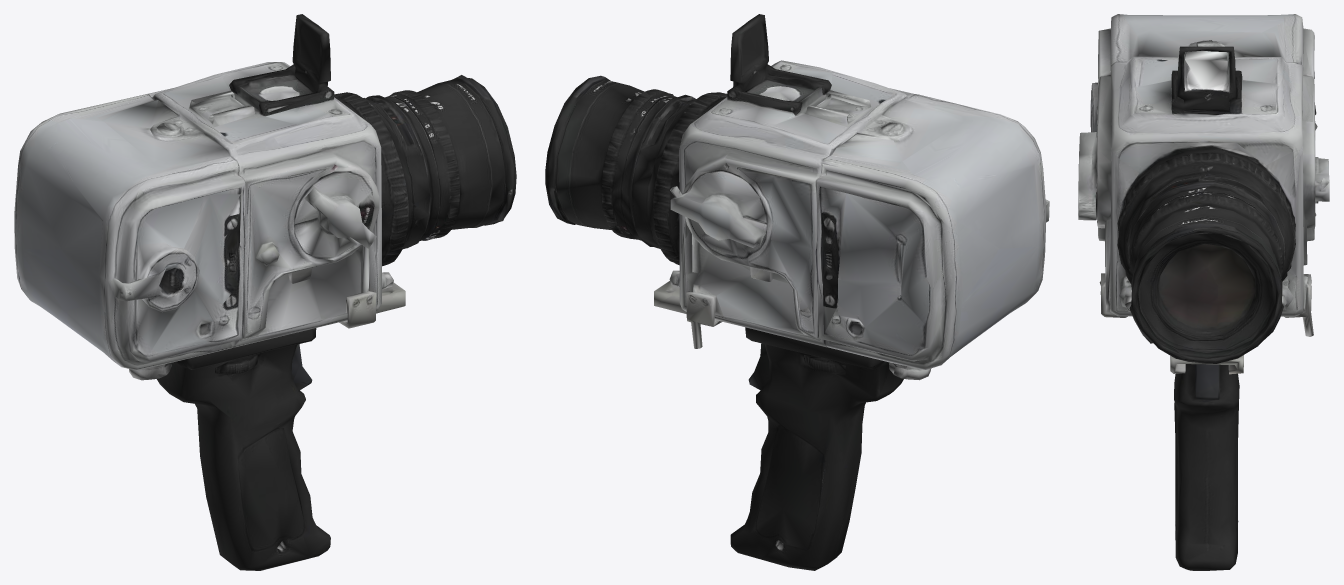
The model's file is hasselblad.glb.
3 views of the same model, side by side, from view 1: azimuth 30°, elevation 25°; view 2: azimuth 150°, elevation 25°; view 3: azimuth 270°, elevation 25° (orthographic).
Visible parts, largest first — view 1: tripo_node_c74d2d2e-d98d-44d2-b3ae-198ff7dcea54; view 2: tripo_node_c74d2d2e-d98d-44d2-b3ae-198ff7dcea54; view 3: tripo_node_c74d2d2e-d98d-44d2-b3ae-198ff7dcea54.
Boxes of the visible parts, box(x1,y1,x2,y2) form: tripo_node_c74d2d2e-d98d-44d2-b3ae-198ff7dcea54: box(14, 14, 516, 570); tripo_node_c74d2d2e-d98d-44d2-b3ae-198ff7dcea54: box(545, 14, 1049, 570); tripo_node_c74d2d2e-d98d-44d2-b3ae-198ff7dcea54: box(1078, 14, 1329, 570).
Size of the model in its own units: 0.25 by 0.2976 by 0.1296.
Materials: 1 (1 with a texture image).
